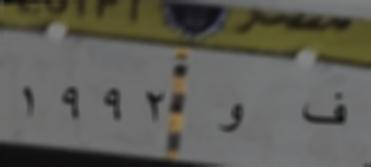1: (13, 72, 48, 128)
2: (136, 85, 170, 126)
9: (96, 81, 128, 131), (58, 79, 84, 124)
faa: (294, 86, 352, 130)
waw: (212, 93, 248, 140)
